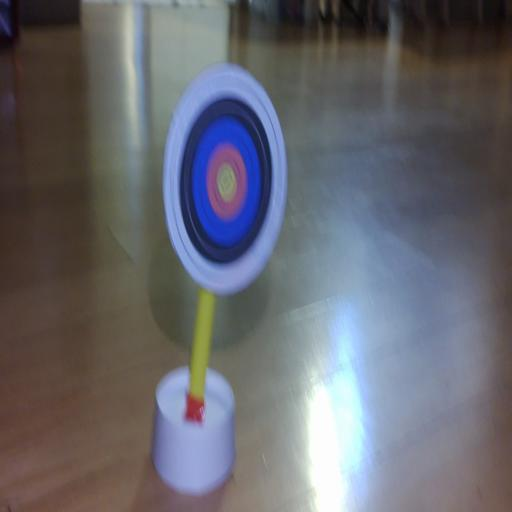target: (164, 64, 287, 294)
